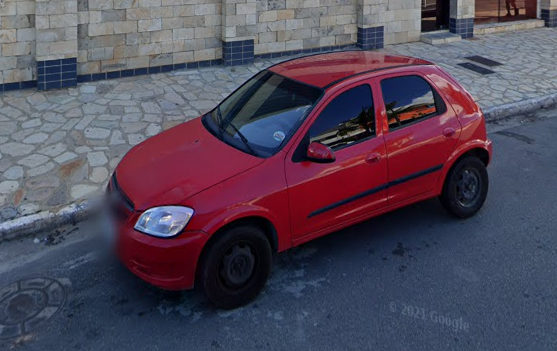car: (99, 44, 496, 315)
